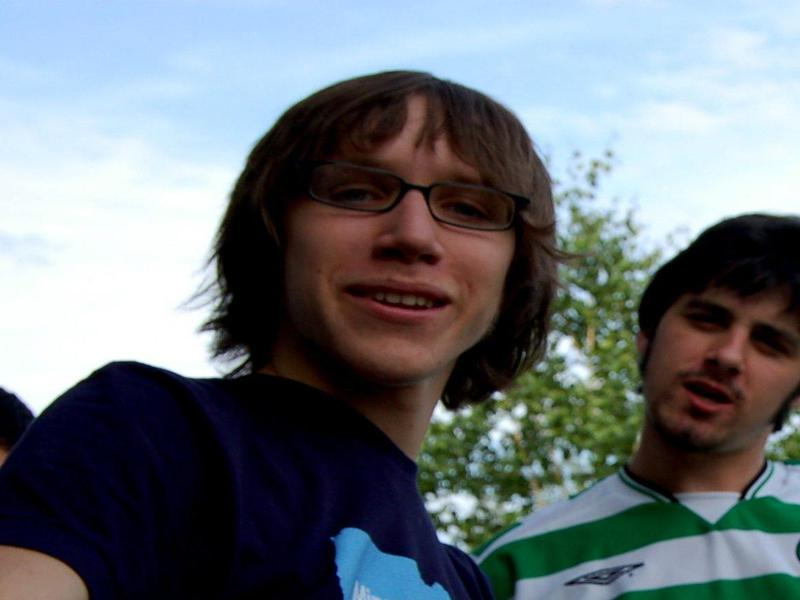person: (25, 77, 537, 600), (477, 204, 799, 600)
